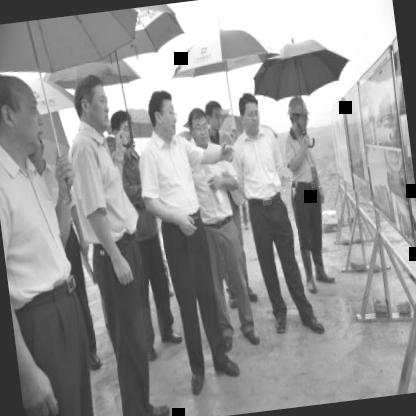head: (0, 70, 49, 168), (70, 70, 113, 134), (143, 84, 180, 142), (108, 104, 136, 154), (235, 90, 264, 137), (182, 105, 210, 152), (203, 96, 228, 136)
helmet: (284, 92, 312, 140)
